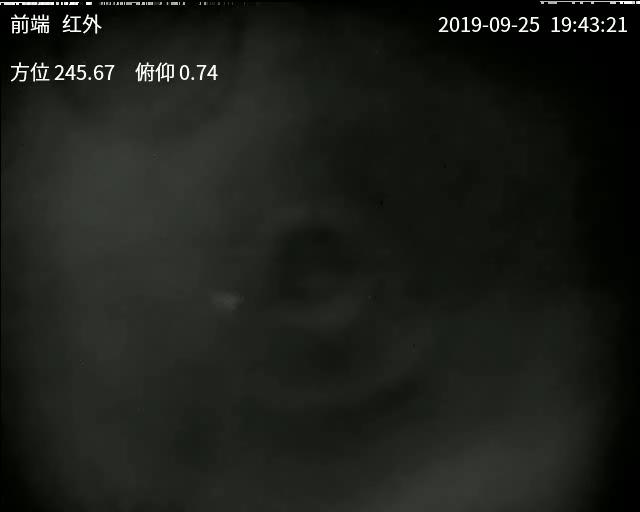uav: (204, 290, 242, 315)
